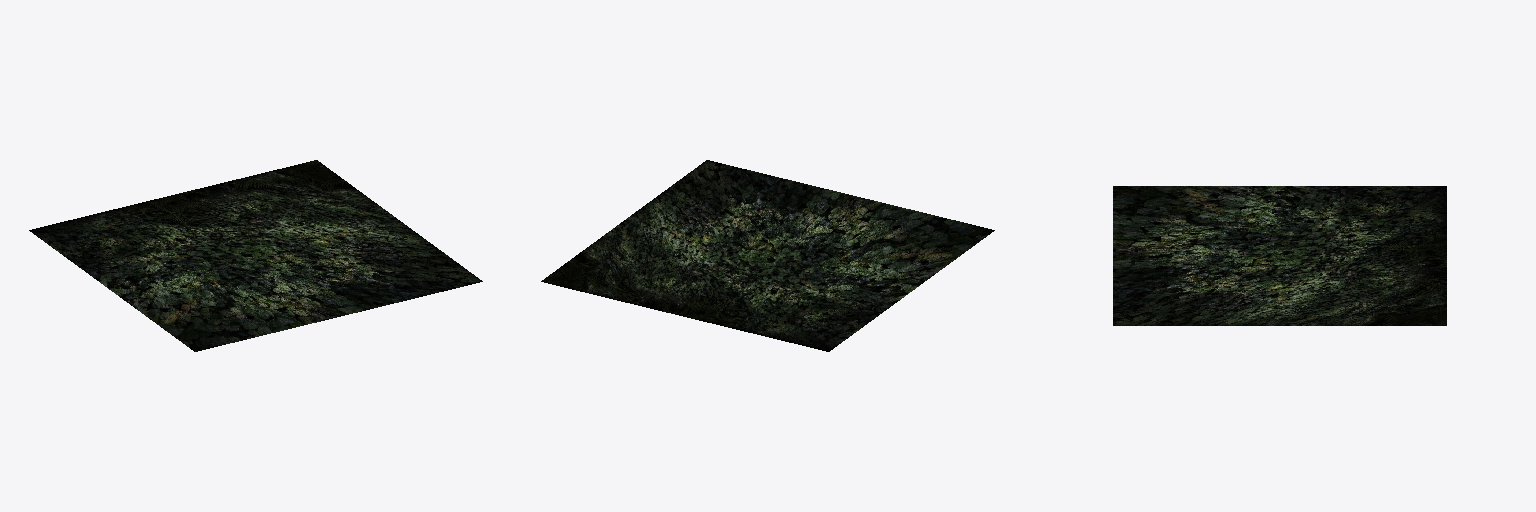
3 views of the same model, side by side, from view 1: azimuth 30°, elevation 25°; view 2: azimuth 150°, elevation 25°; view 3: azimuth 270°, elevation 25° (orthographic).
Parts seen in each view (by area): view 1: Plane; view 2: Plane; view 3: Plane.
Part boxes in pixels (left/top/right/bottom): Plane: left=29, top=160, right=482, bottom=351; Plane: left=541, top=160, right=994, bottom=351; Plane: left=1113, top=186, right=1446, bottom=325.
Bounding box in the file's own units: 10 × 0 × 10.
1 materials, 1 textured.